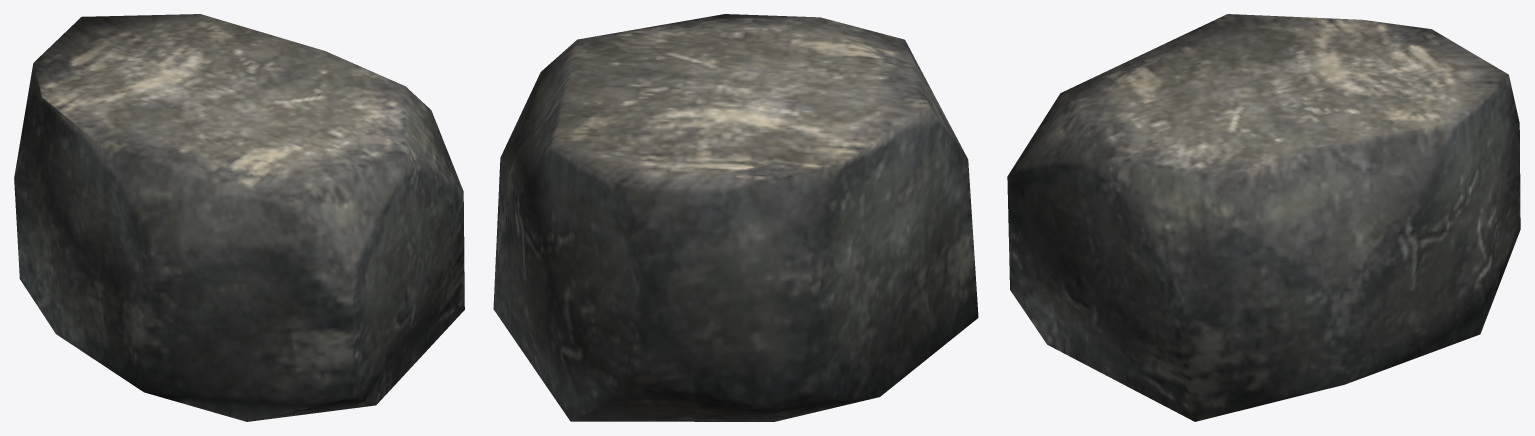
The model's file is Object_Rock4.obj.
3 views of the same model, side by side, from view 1: azimuth 30°, elevation 25°; view 2: azimuth 150°, elevation 25°; view 3: azimuth 270°, elevation 25° (orthographic). The views are drawn at different scales.
Parts seen in each view (by area): view 1: smallrock4; view 2: smallrock4; view 3: smallrock4.
Boxes of the visible parts, x1,y1,x2,y2 form: smallrock4: (14, 14, 464, 421); smallrock4: (493, 14, 978, 421); smallrock4: (1007, 14, 1520, 421).
Size of the model in its own units: 5.27 by 3.49 by 6.69.
Materials: 1 (1 with a texture image).
